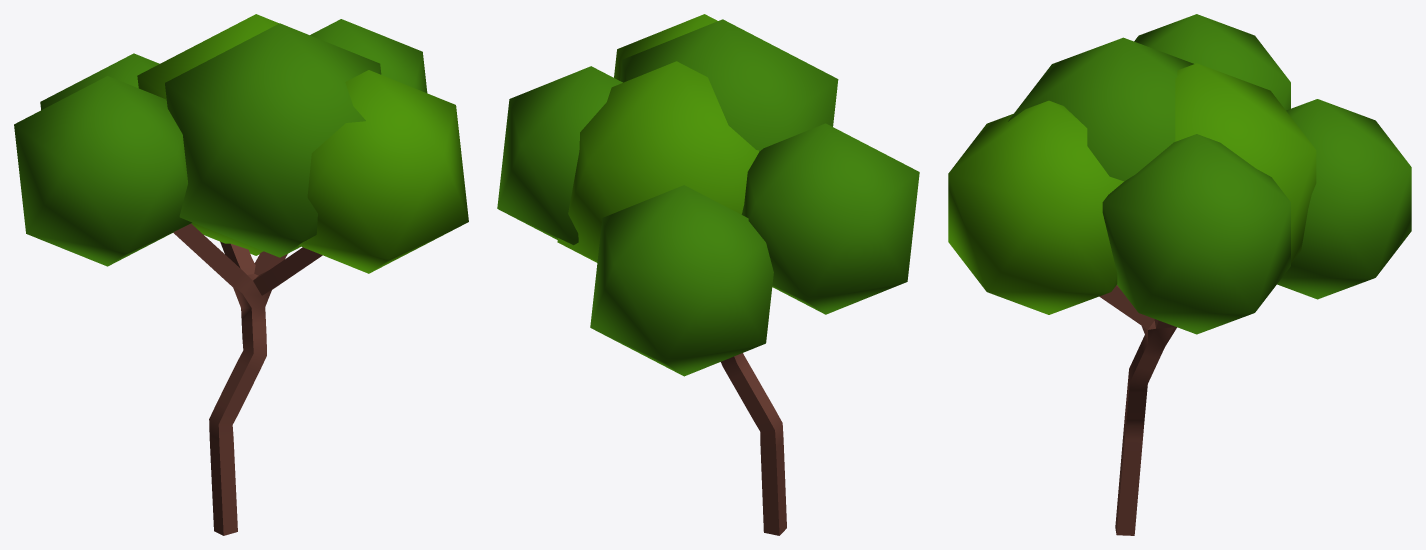
Rendered from Tree.fbx.
3 renders of one model, left to right at view 1: azimuth 30°, elevation 25°; view 2: azimuth 150°, elevation 25°; view 3: azimuth 270°, elevation 25°, orthographic. The views are drawn at different scales.
Visible parts, largest first — view 1: Icosphere.004, Icosphere.001, Icosphere.003, Cube, Icosphere.005, Icosphere, Icosphere.002; view 2: Icosphere.002, Icosphere.001, Icosphere.005, Icosphere.004, Icosphere, Cube, Icosphere.003; view 3: Icosphere, Icosphere.003, Icosphere.002, Icosphere.004, Icosphere.005, Icosphere.001, Cube.
Boxes of the visible parts, x1,y1,x2,y2 form: Icosphere.004: (165, 23, 381, 257); Icosphere.001: (14, 76, 191, 266); Icosphere.003: (298, 70, 468, 273); Cube: (173, 223, 322, 535); Icosphere.005: (137, 14, 278, 255); Icosphere: (310, 19, 427, 92); Icosphere.002: (40, 53, 159, 110); Icosphere.002: (590, 185, 773, 376); Icosphere.001: (741, 123, 919, 314); Icosphere.005: (557, 61, 759, 262); Icosphere.004: (620, 19, 838, 151); Icosphere: (497, 66, 622, 245); Cube: (721, 353, 786, 535); Icosphere.003: (614, 14, 717, 80); Icosphere: (1102, 134, 1290, 334); Icosphere.003: (948, 100, 1123, 314); Icosphere.002: (1277, 99, 1411, 299); Icosphere.004: (1008, 37, 1193, 181); Icosphere.005: (1175, 63, 1316, 263); Icosphere.001: (1134, 14, 1290, 110); Cube: (1099, 285, 1176, 535).
Bounding box in the file's own units: 850 × 1016 × 817.
